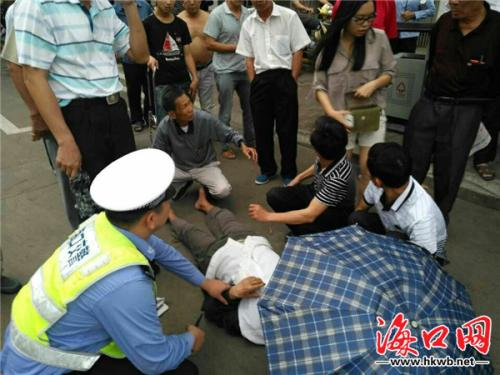10+: (10, 6, 470, 317)
down: (176, 190, 305, 360)
